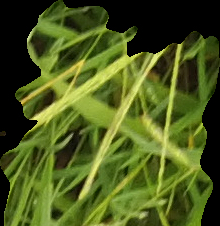grass: (1, 1, 219, 225)
